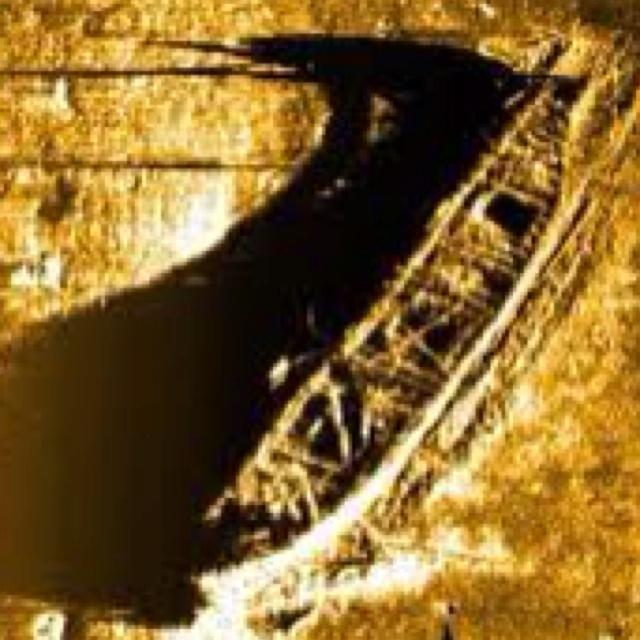ship: (194, 43, 631, 563)
